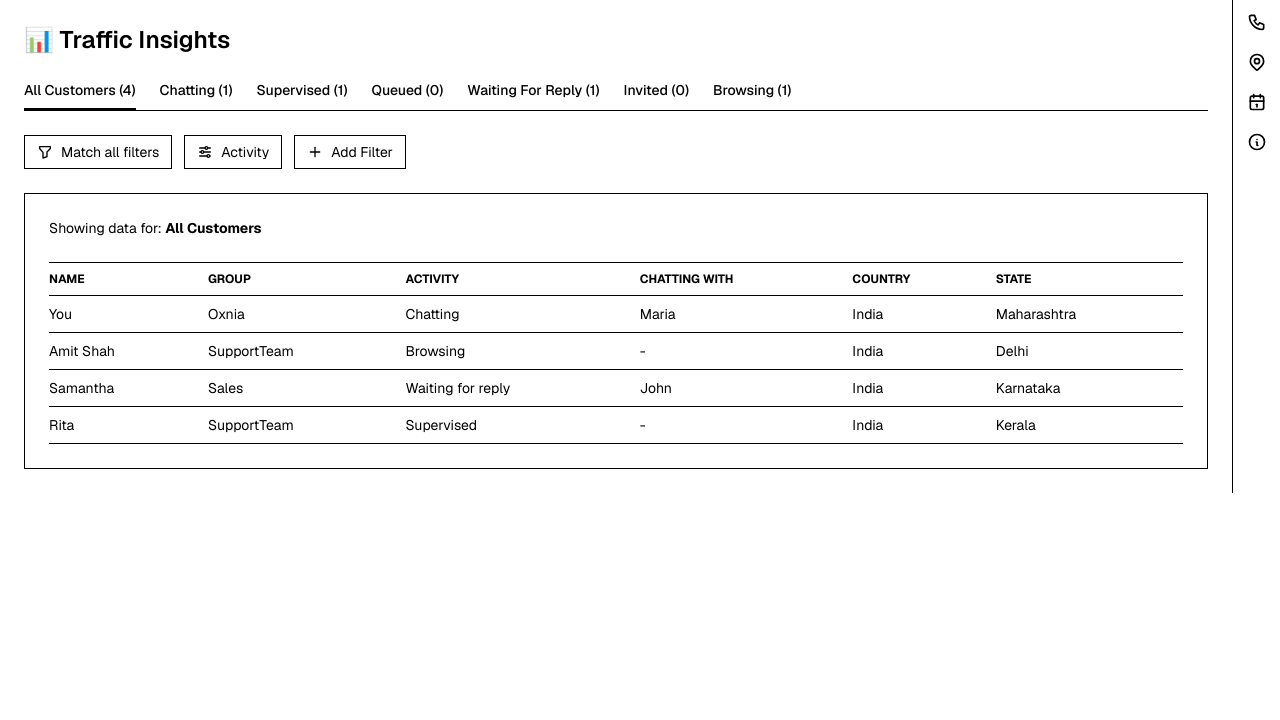
Scenario: TrafficView › shows no rows when the selected filter has no matches
Click the button "Queued (0)" at [407, 95], box [372,80,443,110]
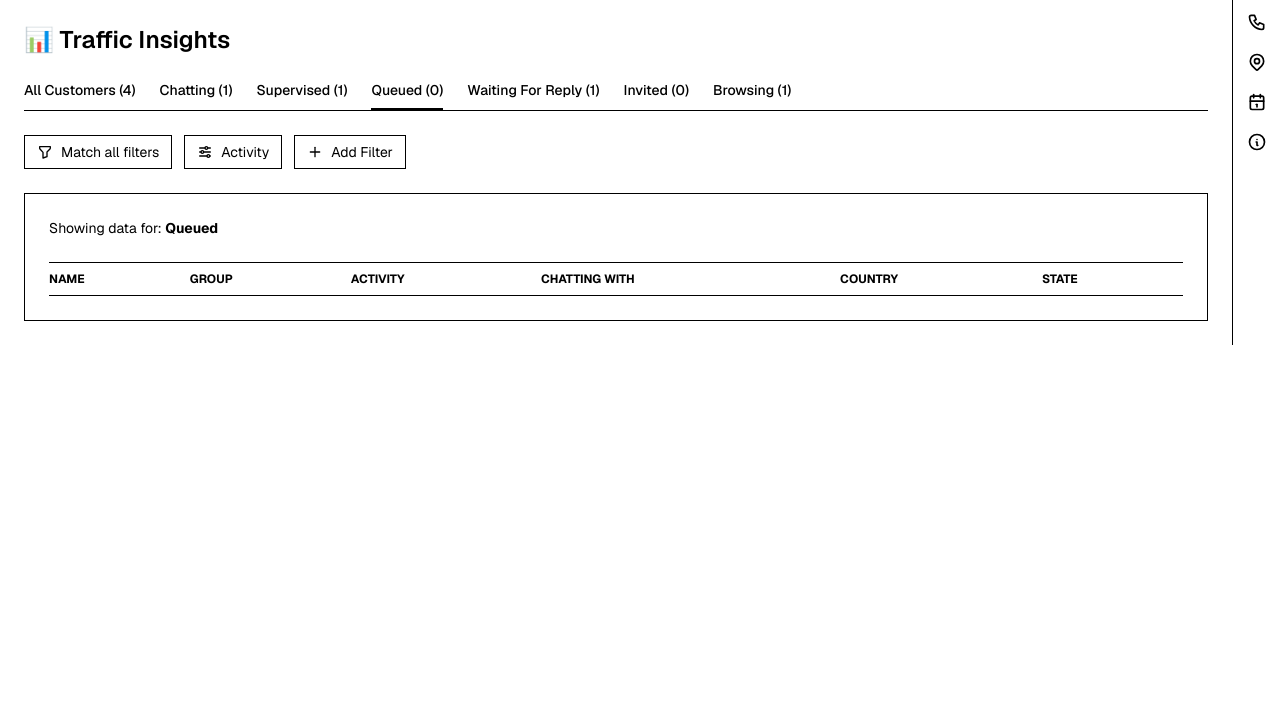
Now the cell "You" is gone
